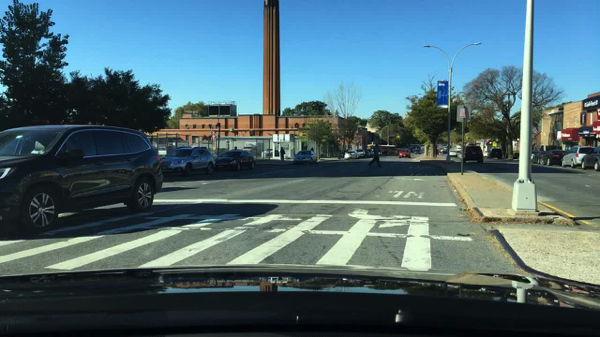car: (0, 126, 164, 234), (160, 146, 216, 178), (217, 148, 256, 173), (562, 146, 594, 168), (580, 145, 599, 172), (540, 149, 568, 166), (460, 146, 484, 164), (293, 149, 318, 165), (487, 148, 503, 160), (533, 151, 547, 164), (344, 149, 359, 161), (397, 148, 411, 160), (413, 146, 422, 156), (448, 148, 458, 157), (357, 147, 364, 159), (529, 150, 537, 160), (455, 144, 462, 153), (442, 144, 447, 155), (395, 147, 400, 156), (365, 151, 371, 157), (409, 144, 413, 153), (439, 146, 443, 153)
person: (367, 142, 381, 167), (279, 146, 286, 163), (309, 146, 316, 162), (233, 144, 239, 150)
traffic light: (395, 132, 398, 140), (398, 134, 402, 140)
traffic sign: (455, 103, 470, 123), (460, 109, 466, 119), (491, 140, 498, 147)
truck: (367, 144, 396, 155)
